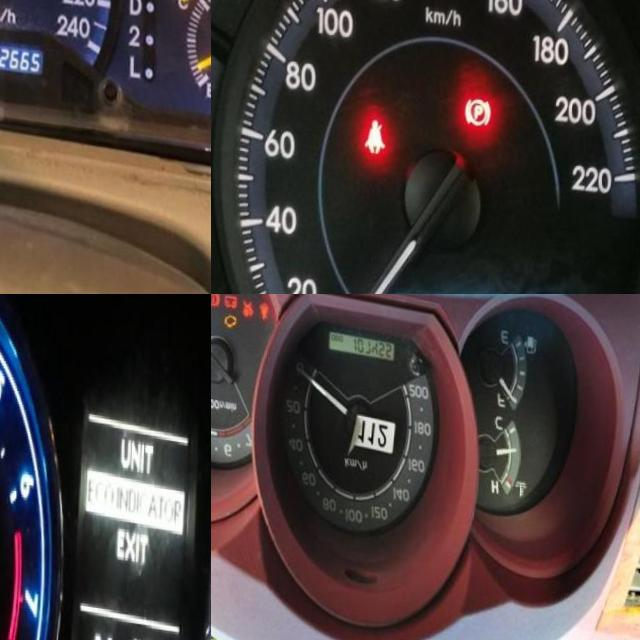Seat Belt: (367, 111, 388, 148), (260, 295, 270, 314)
